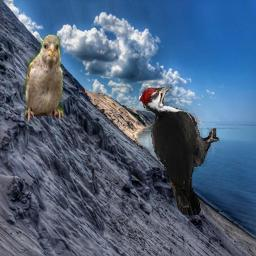Sparrow: (24, 34, 64, 127)
Woodpecker: (139, 85, 220, 215)
